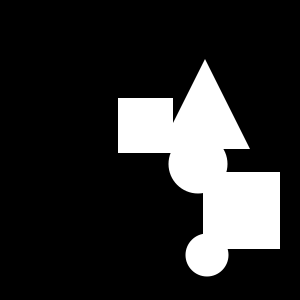circle: (203, 172, 280, 249), (118, 98, 173, 153)
rectangle: (169, 134, 228, 194), (186, 234, 228, 276)
triangle: (160, 59, 250, 149)
